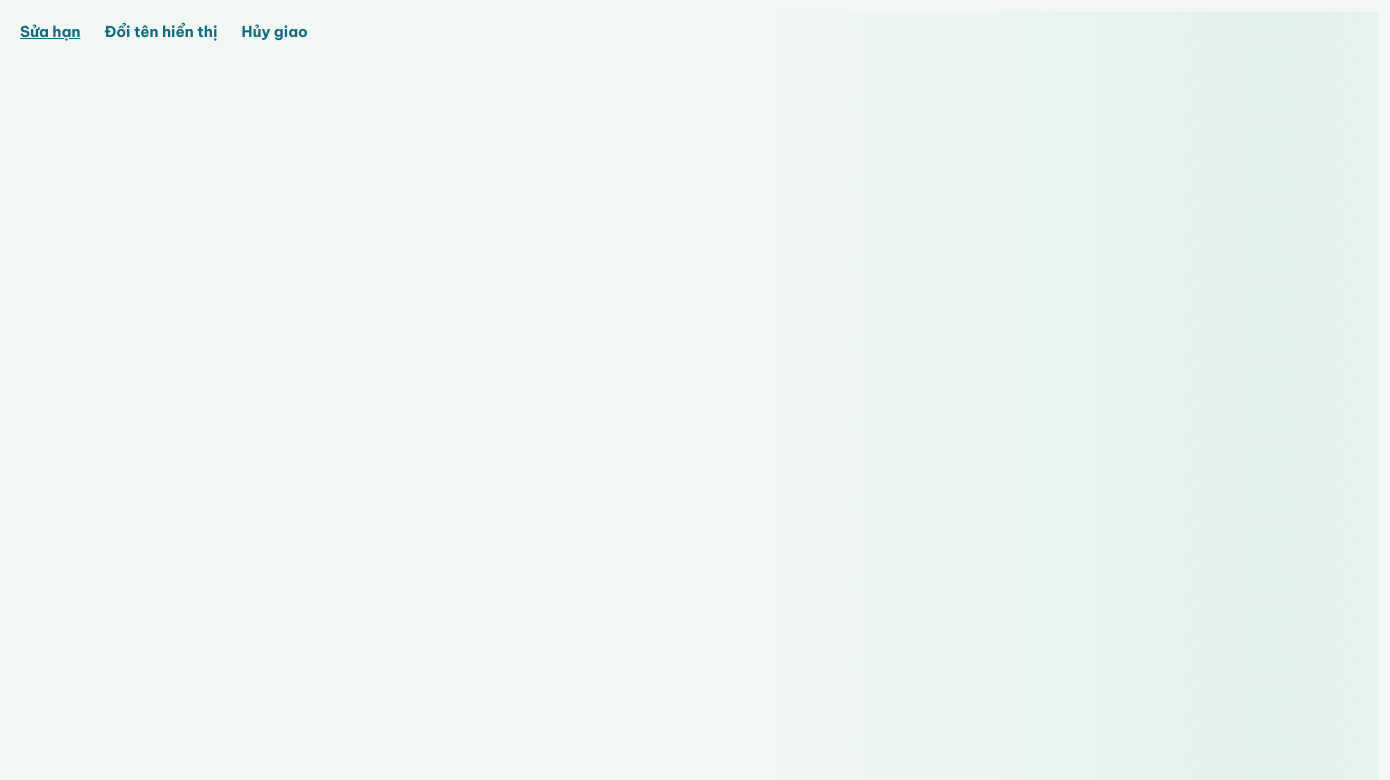
Test: renames what students see: trimmed, 3 to 120 characters, null goes back to the published name
The width and height of the screenshot is (1390, 780).
Later steps or results of the test are not shown.
Click the button "Đổi tên hiển thị".
click(161, 32)  # box [96,12,225,52]
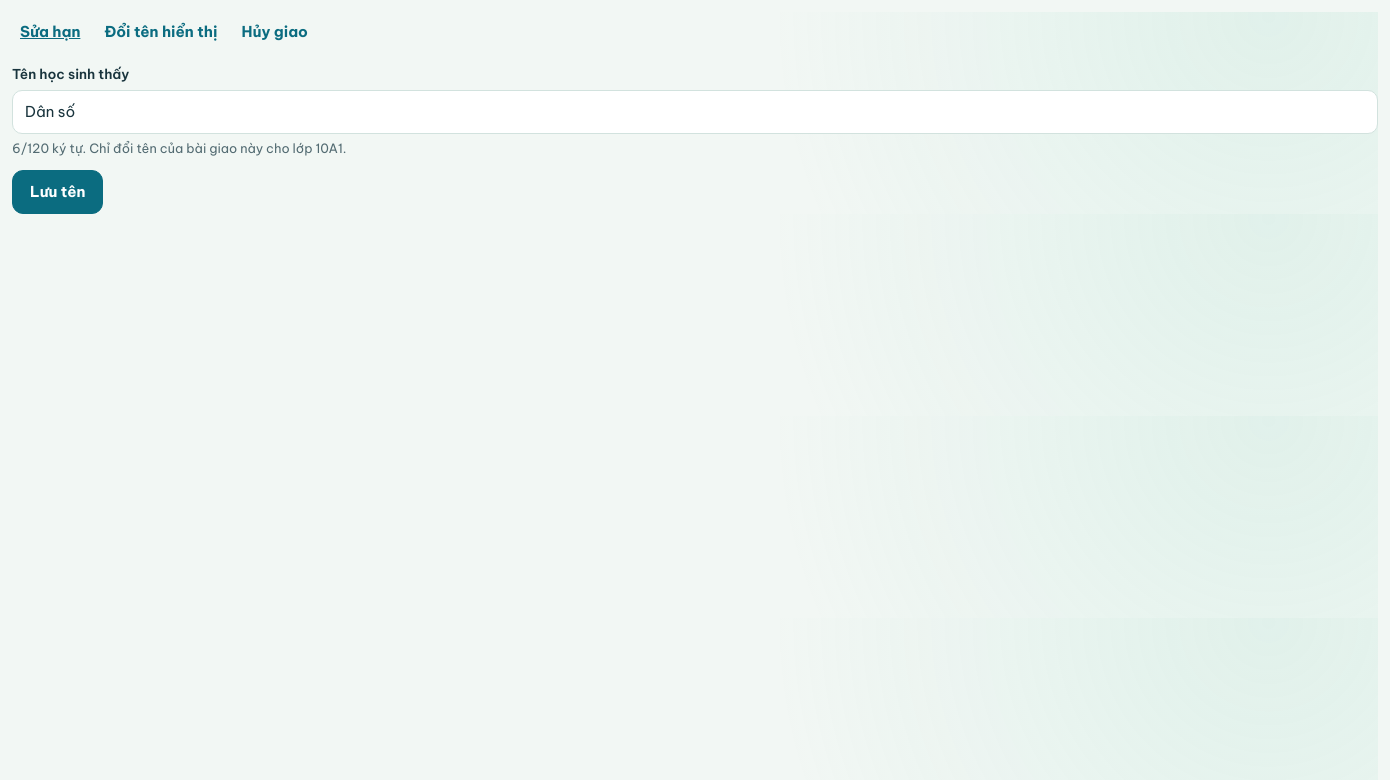
Replace the text in the field labelled "Tên học sinh thấy" with "ab" at (695, 112), box [12,90,1378,134]
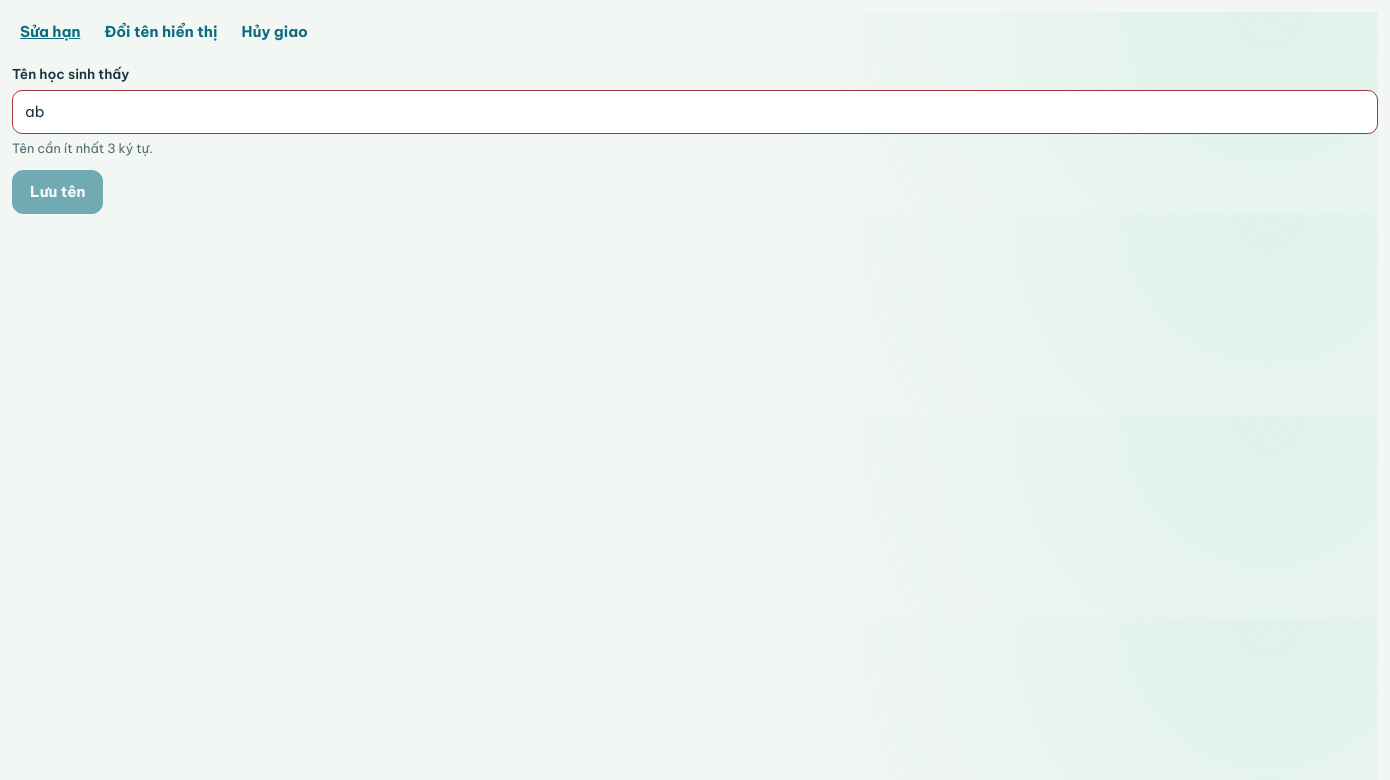
Expected: the text "Tên cần ít nhất 3 ký tự." is shown, [12,140,153,156]
Expected: the button "Lưu tên" is disabled, [12,170,103,214]
